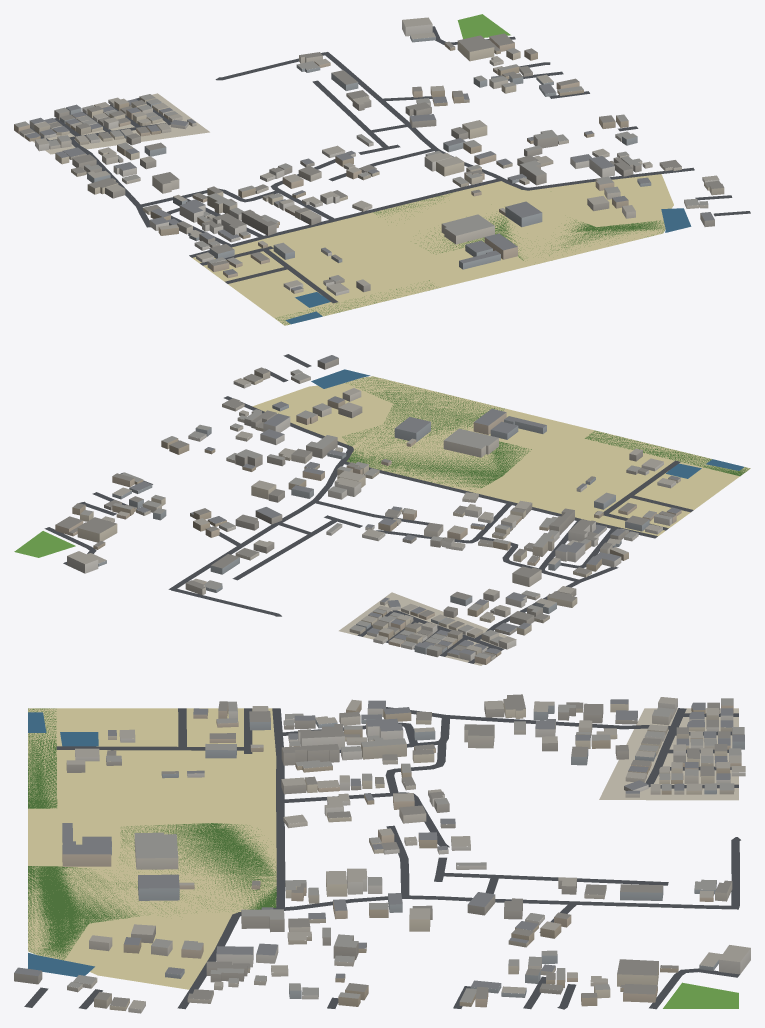
3 renders of one model, top to bottom at view 1: azimuth 30°, elevation 25°; view 2: azimuth 150°, elevation 25°; view 3: azimuth 270°, elevation 25°, orthographic. The views are drawn at different scales.
Parts seen in each view (by area): view 1: landuse, buildings_walls, buildings_roofs, roads, water; view 2: landuse, buildings_walls, buildings_roofs, roads, water; view 3: landuse, buildings_roofs, buildings_walls, roads, water.
Boxes of the visible parts, left/top/right/bottom form: landuse: left=33, top=14, right=673, bottom=325; buildings_walls: left=14, top=20, right=724, bottom=295; buildings_roofs: left=14, top=17, right=724, bottom=292; roads: left=30, top=26, right=750, bottom=303; water: left=285, top=208, right=691, bottom=324; landuse: left=14, top=376, right=750, bottom=665; buildings_walls: left=55, top=358, right=681, bottom=664; buildings_roofs: left=55, top=355, right=681, bottom=658; roads: left=44, top=354, right=693, bottom=663; water: left=311, top=369, right=743, bottom=478; landuse: left=28, top=708, right=738, bottom=1008; buildings_roofs: left=14, top=694, right=750, bottom=1009; buildings_walls: left=14, top=696, right=750, bottom=1013; roads: left=24, top=707, right=740, bottom=1009; water: left=28, top=712, right=98, bottom=976.
Bounding box in the file's own units: 517 × 9.62 × 518.
